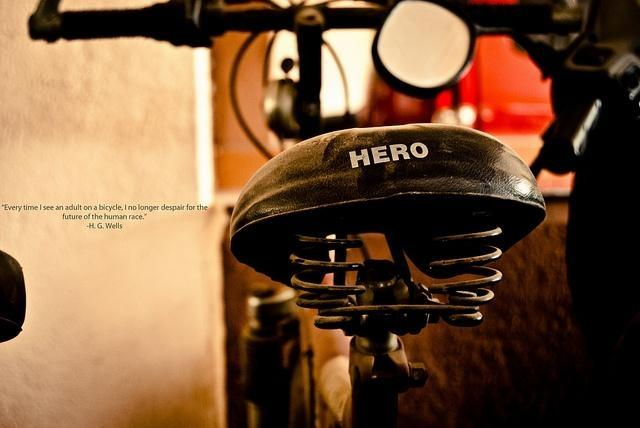bicycle: (25, 2, 602, 428)
